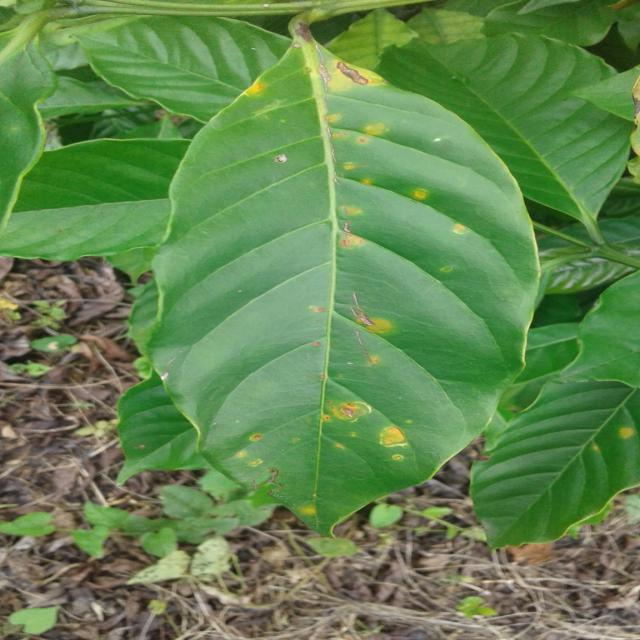Enfermedad-Roya: (146, 20, 543, 538)
